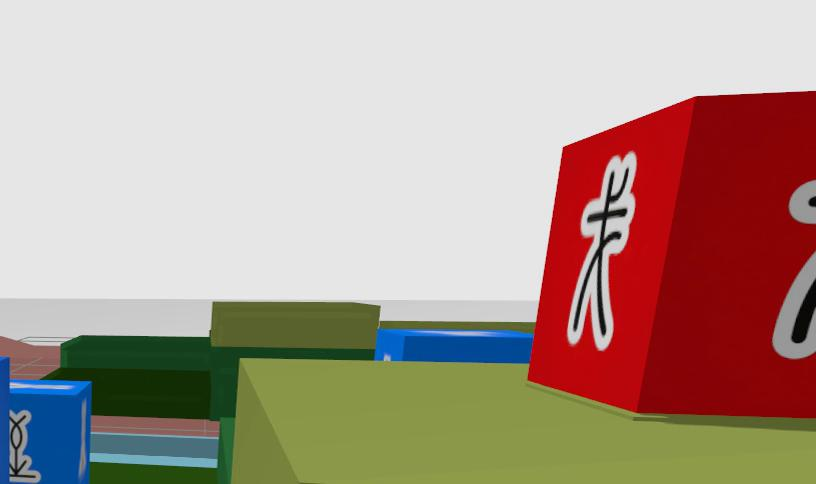KFS_FAKE: (529, 91, 815, 416), (567, 152, 636, 350), (772, 253, 815, 358), (788, 181, 815, 223)
KFS_REAL: (10, 378, 91, 484), (374, 328, 532, 362), (8, 410, 40, 482), (0, 359, 9, 484)
